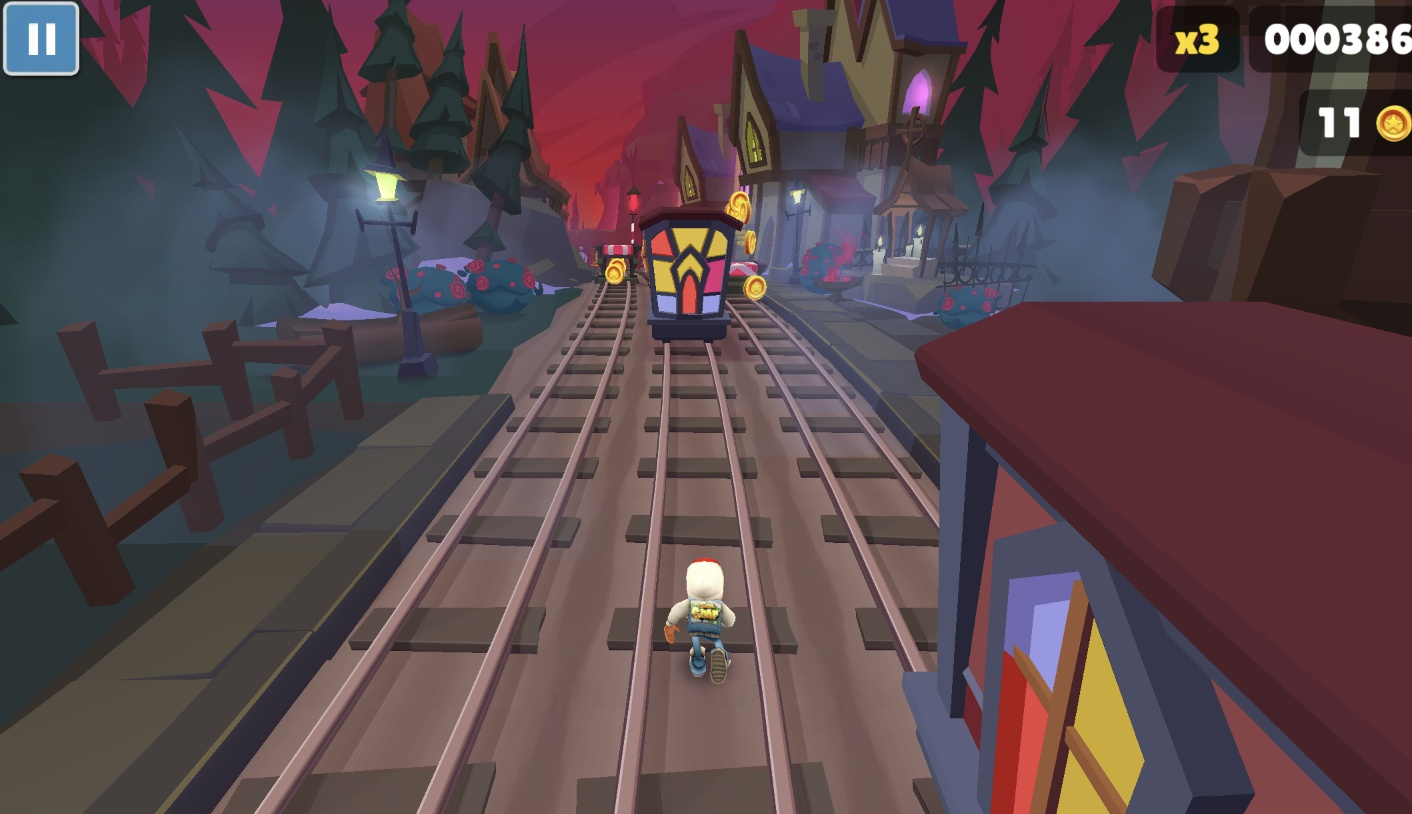ground_barrier: (586, 245, 631, 285), (729, 263, 759, 295)
train: (908, 302, 1412, 814), (622, 208, 735, 352)
